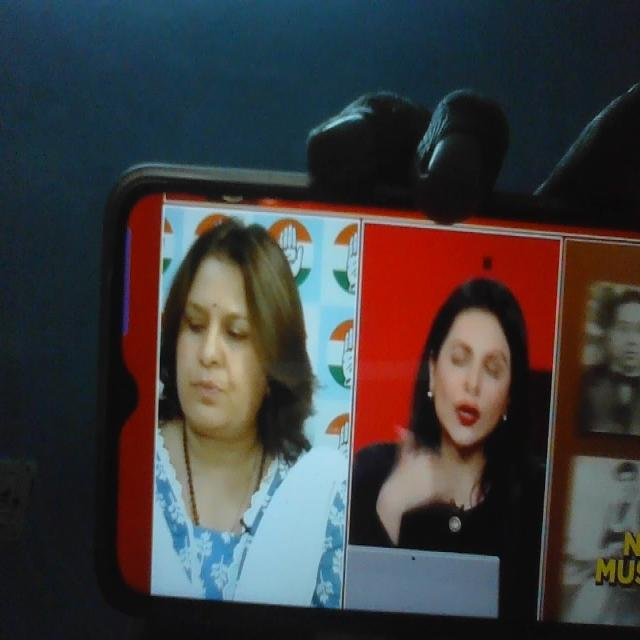fake: (165, 229, 276, 440), (420, 259, 525, 457)
